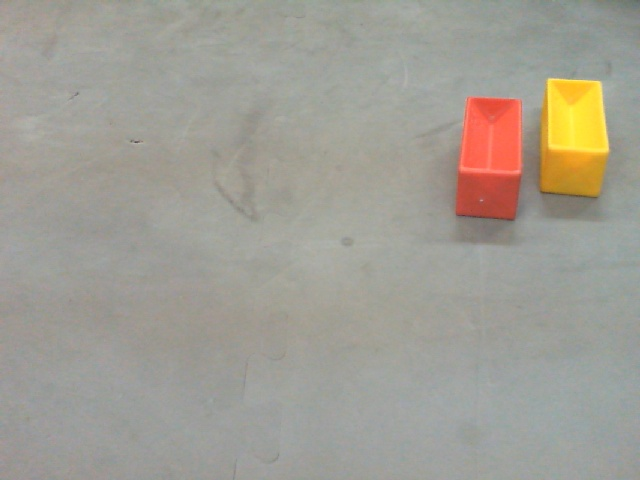RedSample: (454, 95, 522, 224)
YellowSample: (533, 73, 611, 197)
